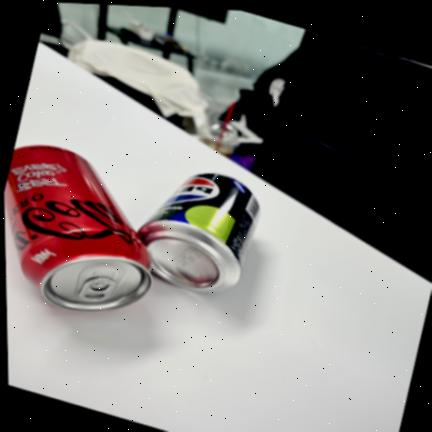can_coke_zero: (4, 145, 151, 312)
can_pepsi_zero: (137, 173, 259, 291)
